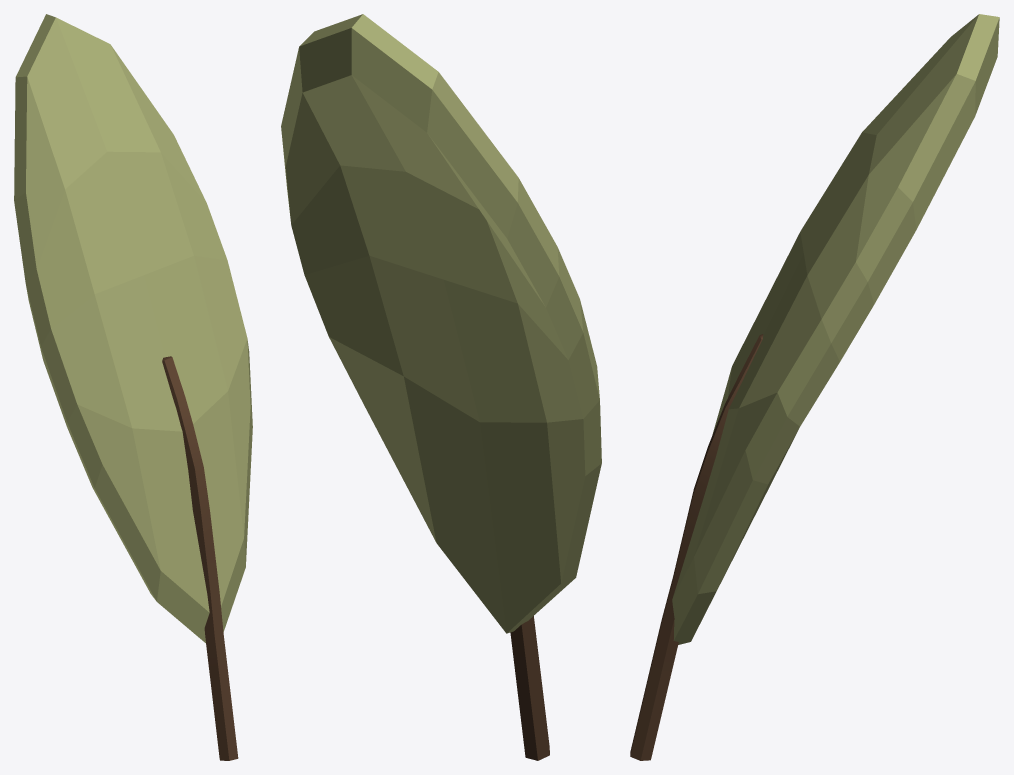
Rendered from Plant3.fbx.
3 renders of one model, left to right at view 1: azimuth 30°, elevation 25°; view 2: azimuth 150°, elevation 25°; view 3: azimuth 270°, elevation 25°, orthographic. The views are drawn at different scales.
Visible parts, largest first — view 1: LangBlad; view 2: LangBlad; view 3: LangBlad.
Boxes of the visible parts, x1,y1,x2,y2 form: LangBlad: [14, 14, 252, 760]; LangBlad: [281, 14, 601, 760]; LangBlad: [630, 14, 999, 760].
Bounding box in the file's own units: 0.0164 × 0.0514 × 0.0236.
